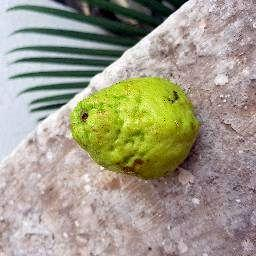guava: (67, 74, 201, 180)
